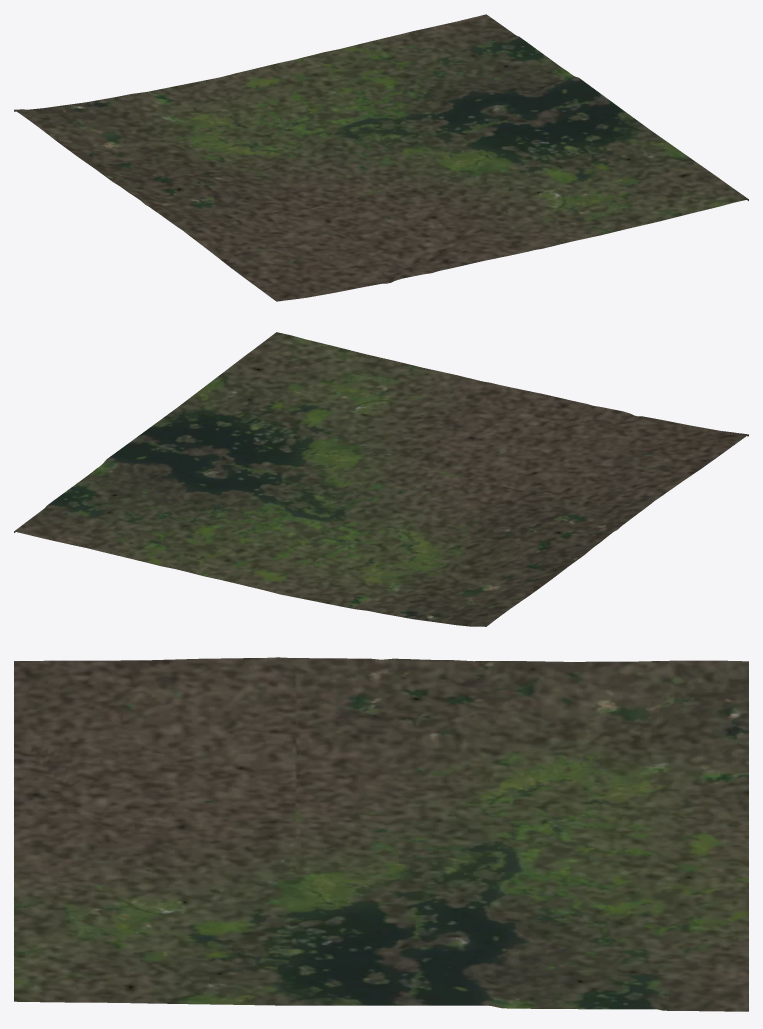
The picture shows the model from 3 angles, top to bottom: view 1: azimuth 30°, elevation 25°; view 2: azimuth 150°, elevation 25°; view 3: azimuth 270°, elevation 25°; orthographic projection. The views are drawn at different scales.
Size of the model in its own units: 250 by 12.45 by 241.
1 material, 1 textured.
